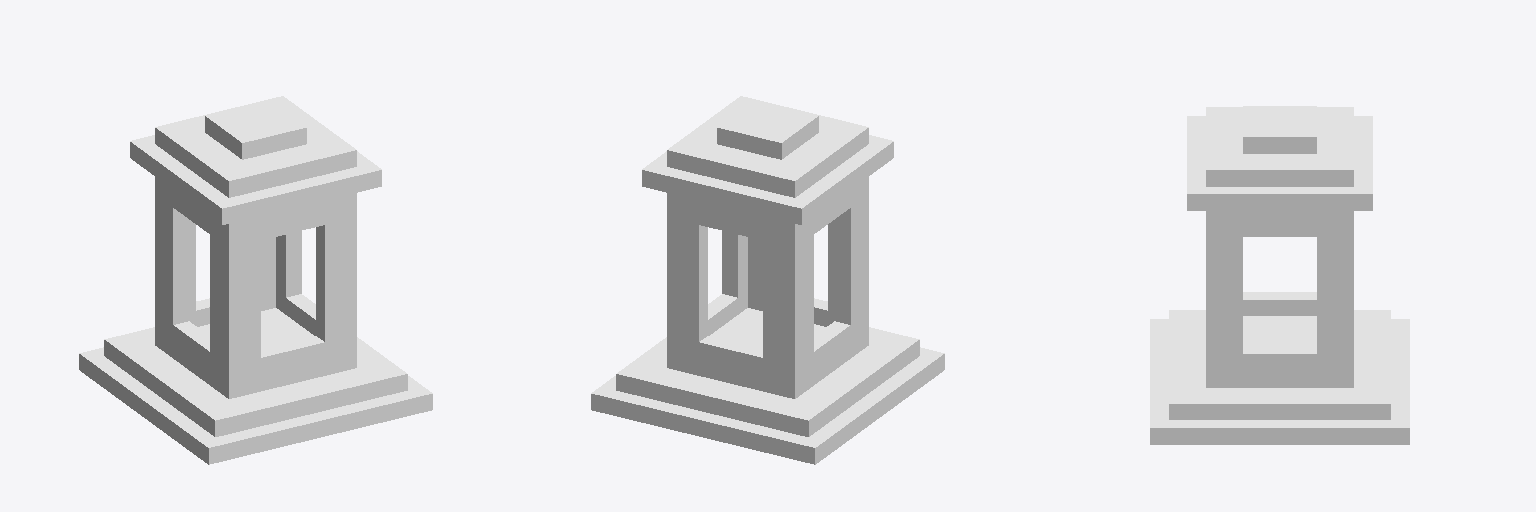
File: deco_1.obj
The picture shows the model from 3 angles: view 1: azimuth 30°, elevation 25°; view 2: azimuth 150°, elevation 25°; view 3: azimuth 270°, elevation 25°; orthographic projection.
Size of the model in its own units: 14 by 16 by 14.